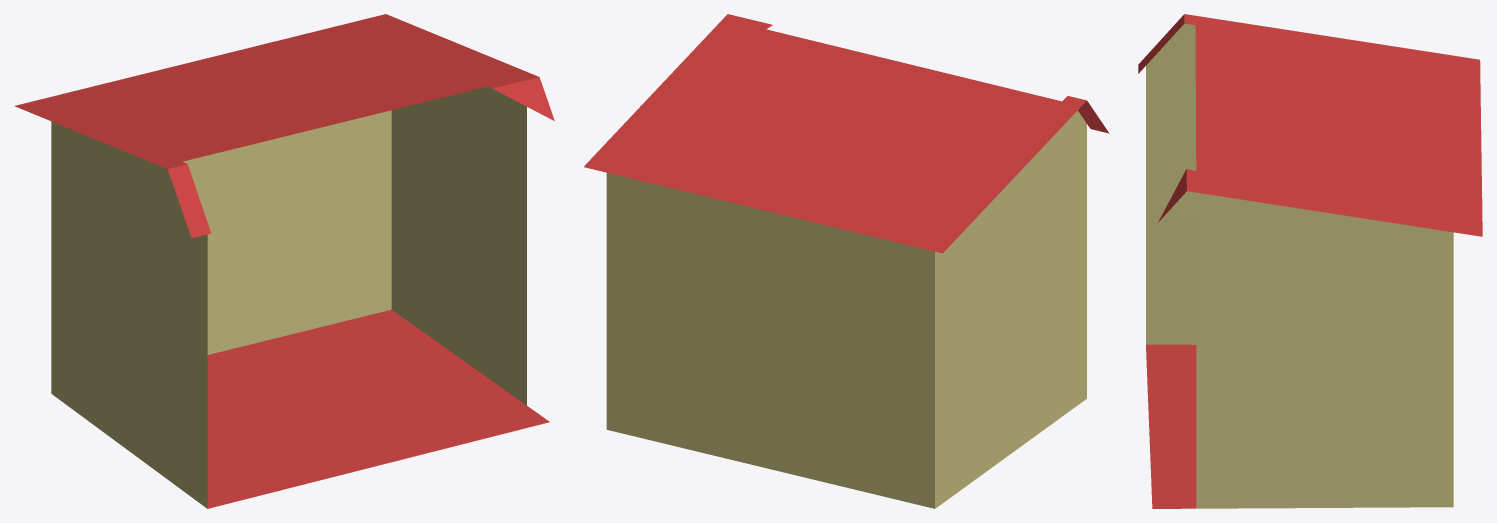
The picture shows the model from 3 angles, left to right: view 1: azimuth 30°, elevation 25°; view 2: azimuth 150°, elevation 25°; view 3: azimuth 270°, elevation 25°; orthographic projection. The views are drawn at different scales.
Size of the model in its own units: 10.43 by 8.53 by 8.77.
